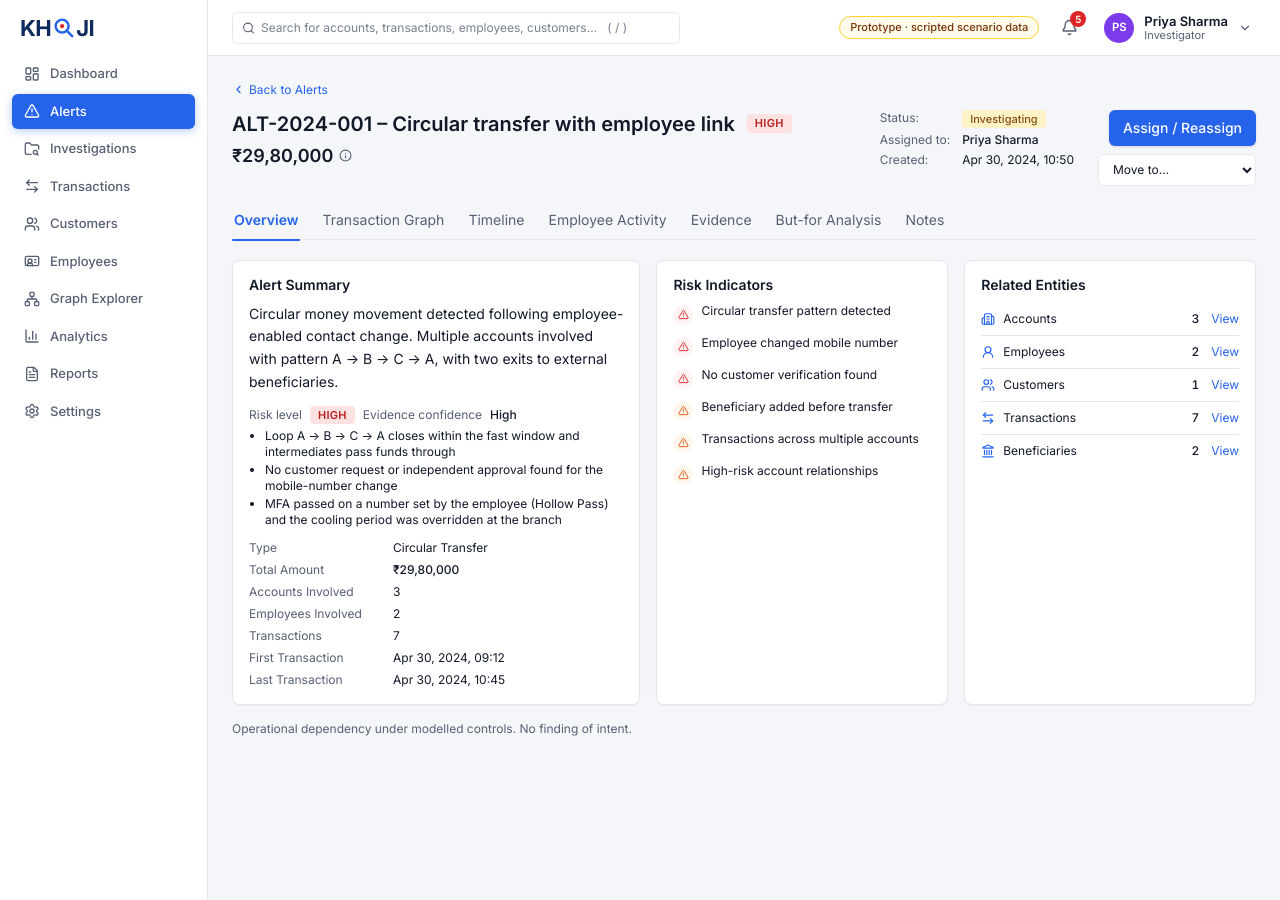
status and decisions › a decision requires a rationale
Select "Record decision…" in the dropdown named "Change status": (1177, 170) 1098,154 -> 1256,186
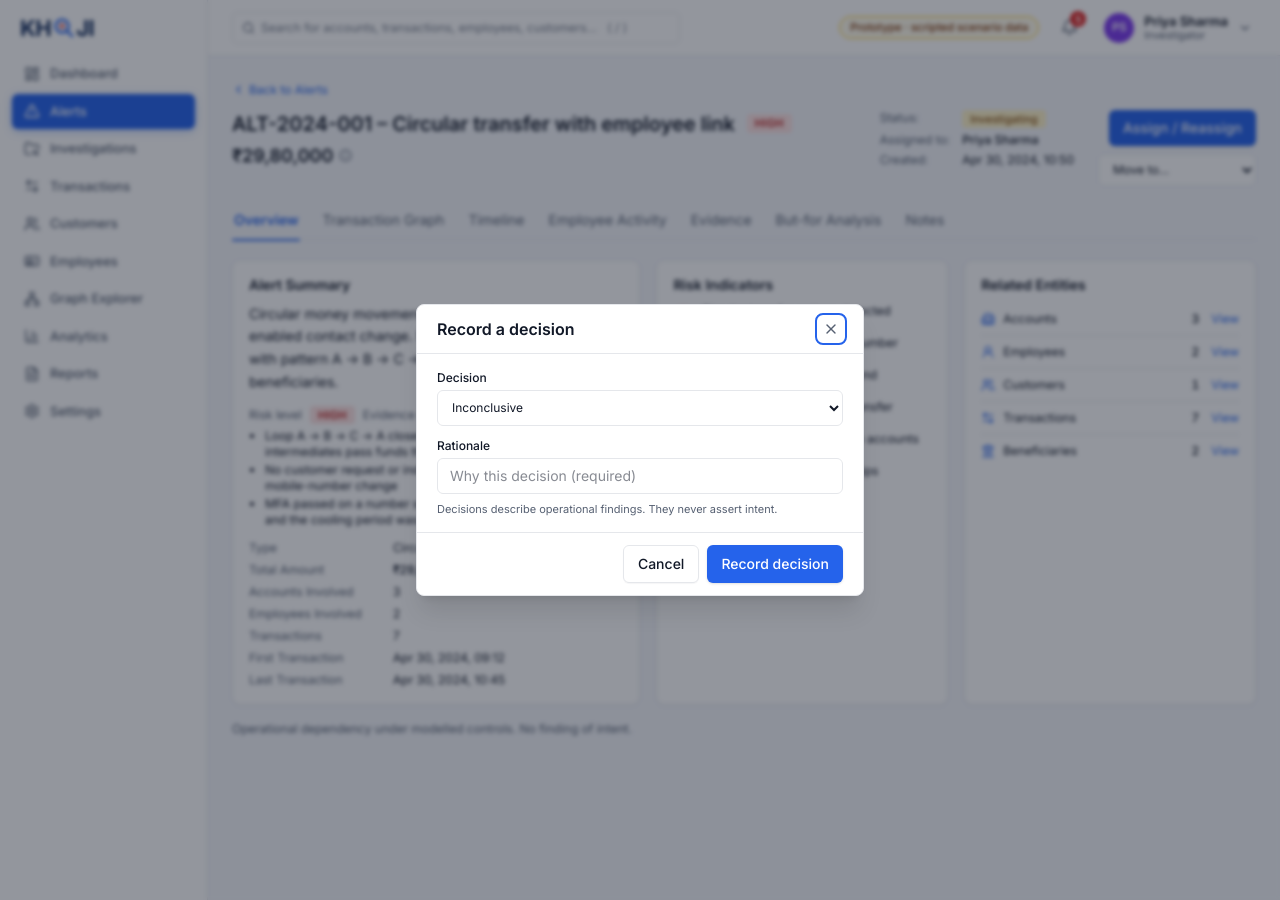
Click the button "Record decision": (775, 564) 707,545 -> 843,583
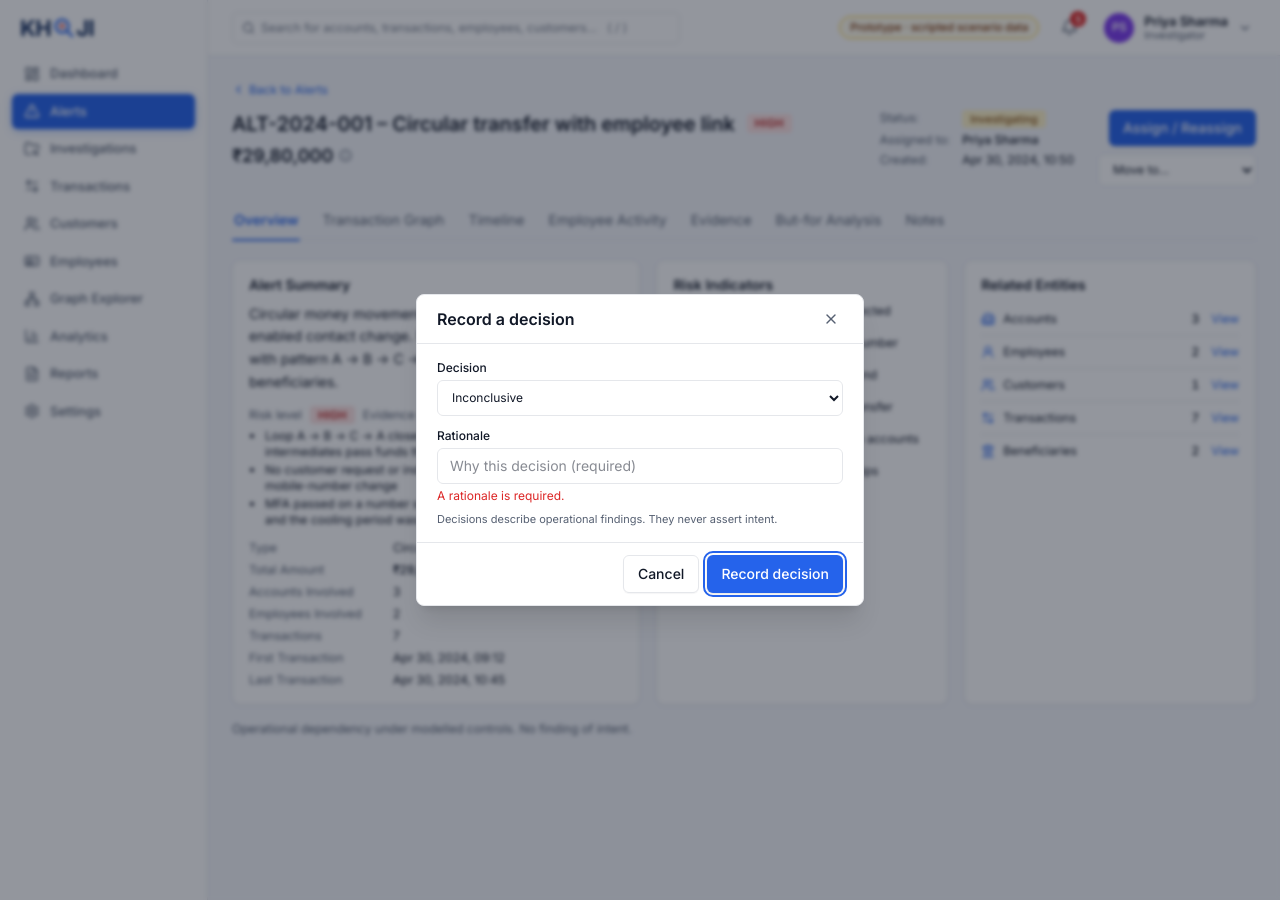
Result: the text "A rationale is required." is shown at 437,488 -> 564,503
In the field labelled "Rationale": (640, 466) 437,448 -> 843,484, type "Independent evidence found"
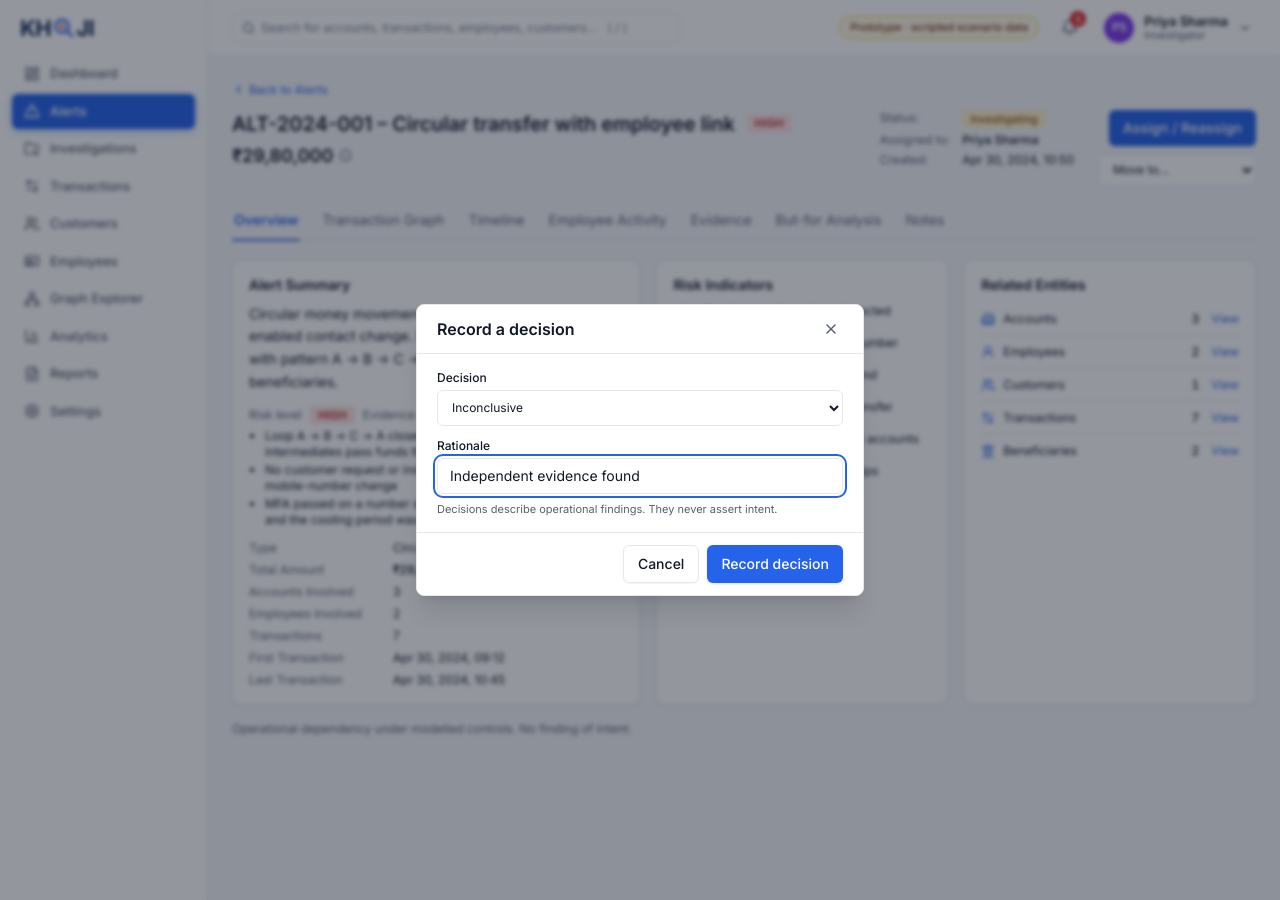
Click the button "Record decision": (775, 564) 707,545 -> 843,583
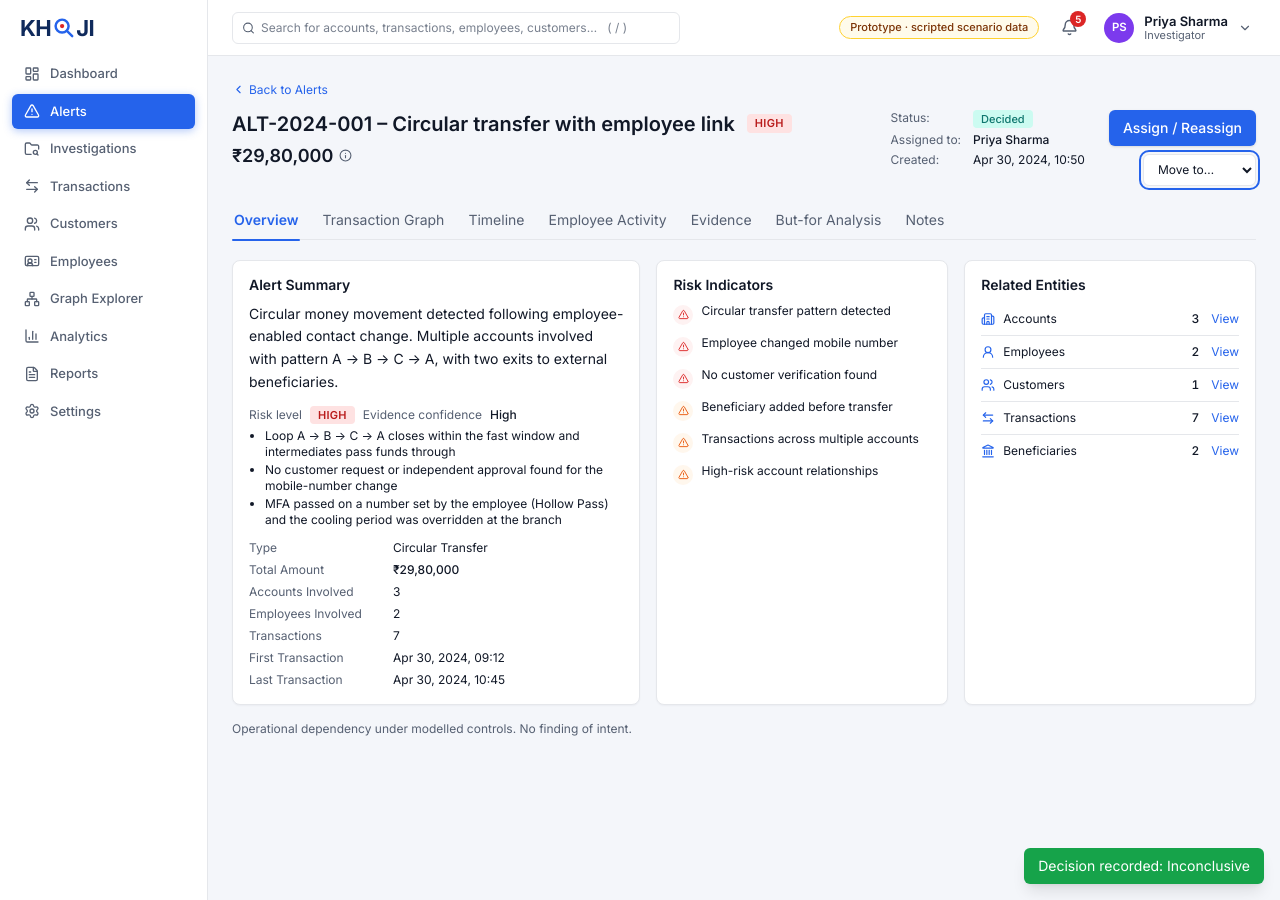
Result: the text "Decided" is shown at 973,110 -> 1033,128
